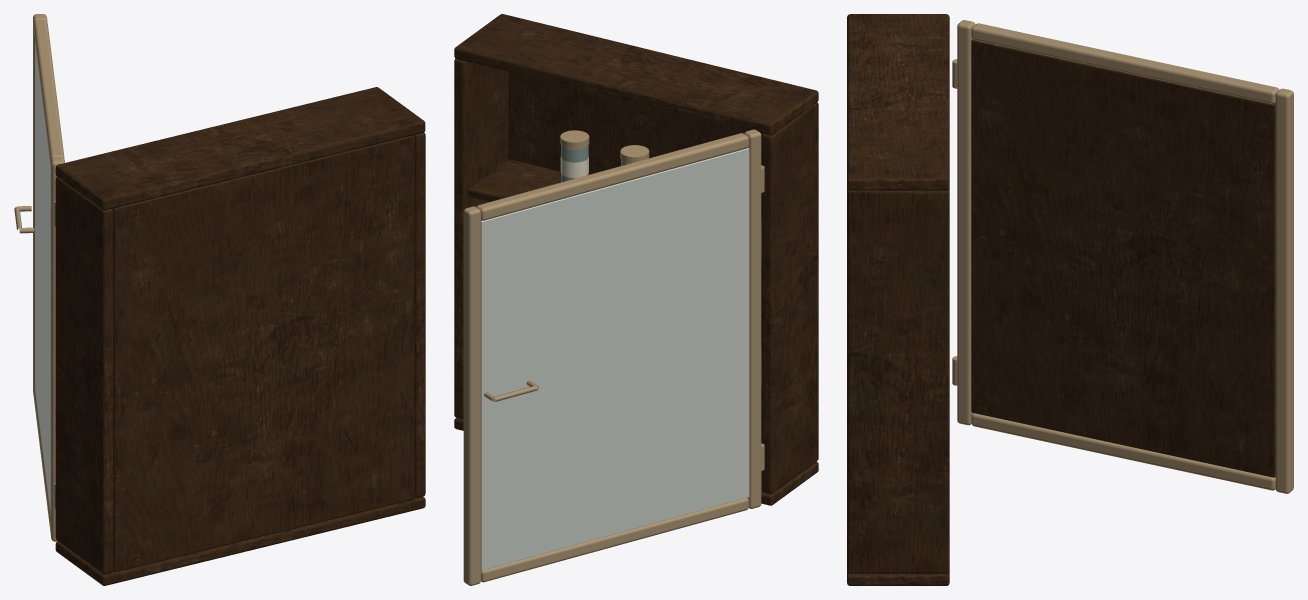
The model's file is bath-mirror-storage.glb.
The picture shows the model from 3 angles, left to right: view 1: azimuth 30°, elevation 25°; view 2: azimuth 150°, elevation 25°; view 3: azimuth 270°, elevation 25°; orthographic projection. The views are drawn at different scales.
Visible parts, largest first — view 1: walnut_surfaces, bronze_surfaces, mirror_surfaces; view 2: mirror_surfaces, walnut_surfaces, bronze_surfaces, sage_surfaces; view 3: walnut_surfaces, bronze_surfaces.
Boxes of the visible parts, bbox=[...] form: walnut_surfaces: bbox=[55, 87, 425, 585]; bronze_surfaces: bbox=[14, 14, 64, 541]; mirror_surfaces: bbox=[35, 42, 50, 510]; mirror_surfaces: bbox=[481, 148, 749, 570]; walnut_surfaces: bbox=[454, 14, 818, 505]; bronze_surfaces: bbox=[463, 129, 764, 585]; sage_surfaces: bbox=[561, 145, 628, 182]; walnut_surfaces: bbox=[847, 14, 1275, 585]; bronze_surfaces: bbox=[952, 20, 1293, 493].
Bounding box in the file's own units: 0.69 × 0.79 × 0.7843.
Materials: 5 (1 with a texture image).
